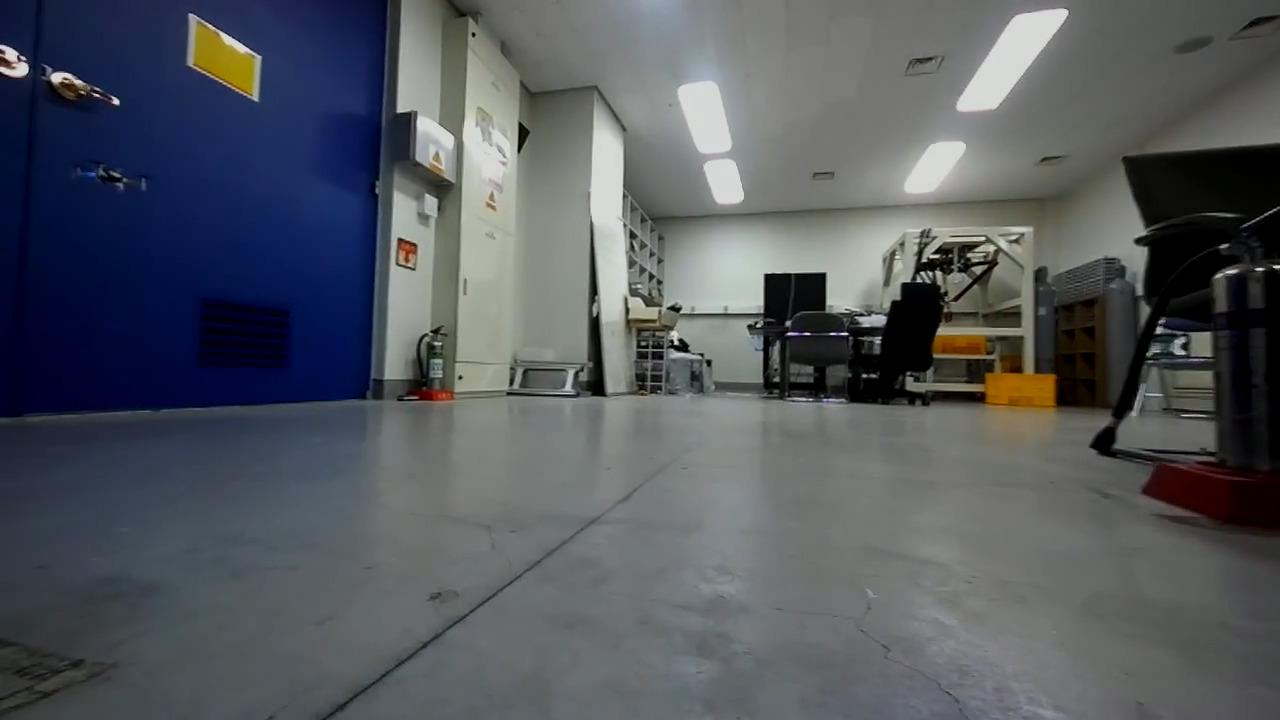crazyflie: (66, 158, 153, 196)
